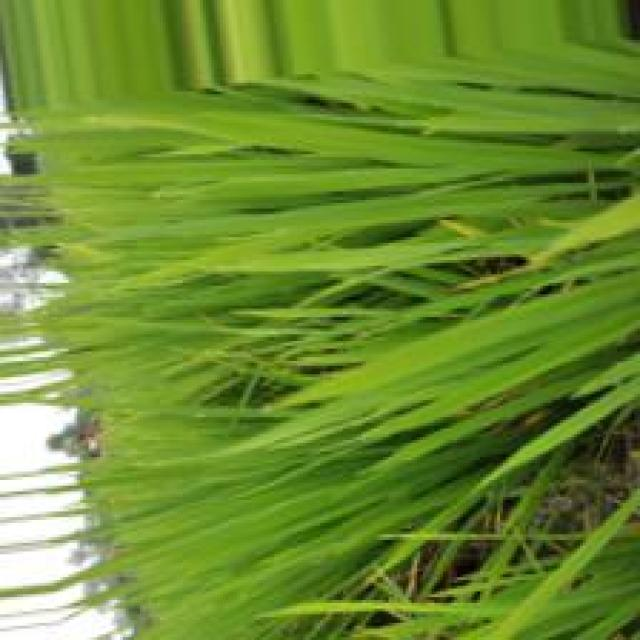HealthyLeaf: (312, 269, 640, 427), (132, 486, 324, 588), (96, 164, 384, 216)
